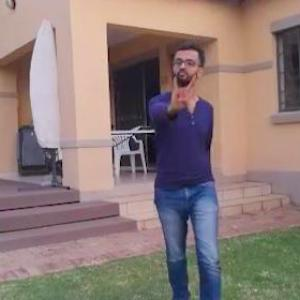takeoff-hand: (161, 69, 199, 119)
